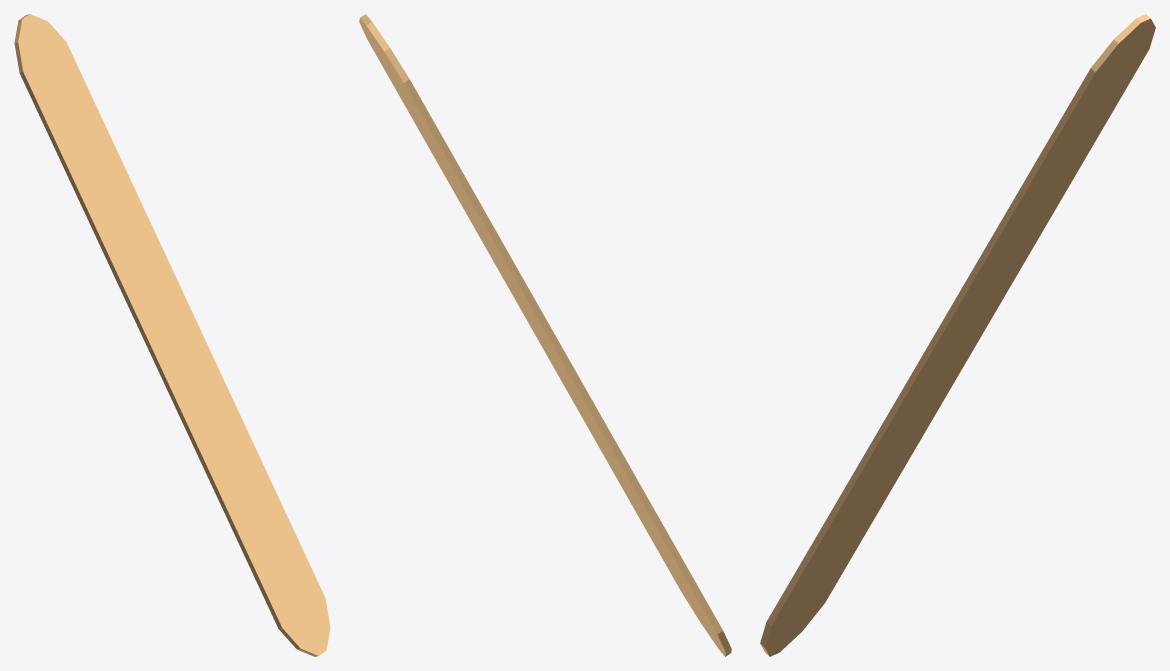
Rendered from stick.fbx.
3 renders of one model, left to right at view 1: azimuth 90°, elevation 25°; view 2: azimuth 150°, elevation 25°; view 3: azimuth 270°, elevation 25°, orthographic. The views are drawn at different scales.
Visible parts, largest first — view 1: Cube.001; view 2: Cube.001; view 3: Cube.001.
Boxes of the visible parts, x1,y1,x2,y2 form: Cube.001: (14, 14, 330, 656); Cube.001: (359, 14, 731, 656); Cube.001: (760, 14, 1155, 656).
Size of the model in its own units: 32.78 by 106 by 53.04.
